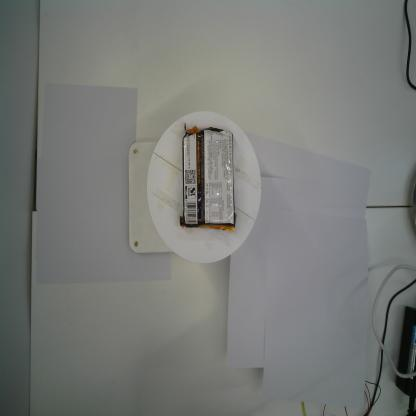Dessert: (180, 122, 236, 232)
